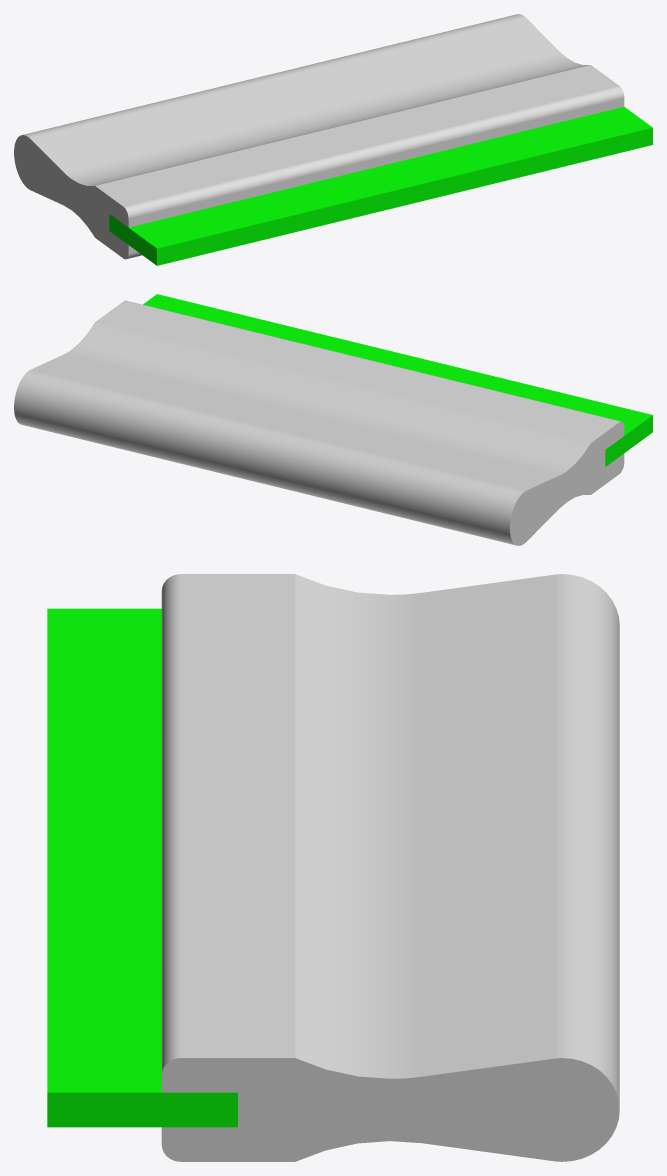
Rendered from Squeegee.fbx.
3 views of the same model, one above another, from view 1: azimuth 30°, elevation 25°; view 2: azimuth 150°, elevation 25°; view 3: azimuth 270°, elevation 25° (orthographic). The views are drawn at different scales.
Parts seen in each view (by area): view 1: NAUO1, NAUO2; view 2: NAUO1, NAUO2; view 3: NAUO1, NAUO2.
Part boxes in pixels (x1,y1,x2,y2): NAUO1: (14,14,624,259); NAUO2: (109,106,652,265); NAUO1: (14,300,624,545); NAUO2: (143,294,652,466); NAUO1: (161,574,619,1161); NAUO2: (47,608,237,1127).
Bounding box in the file's own units: 30 × 3 × 15.
